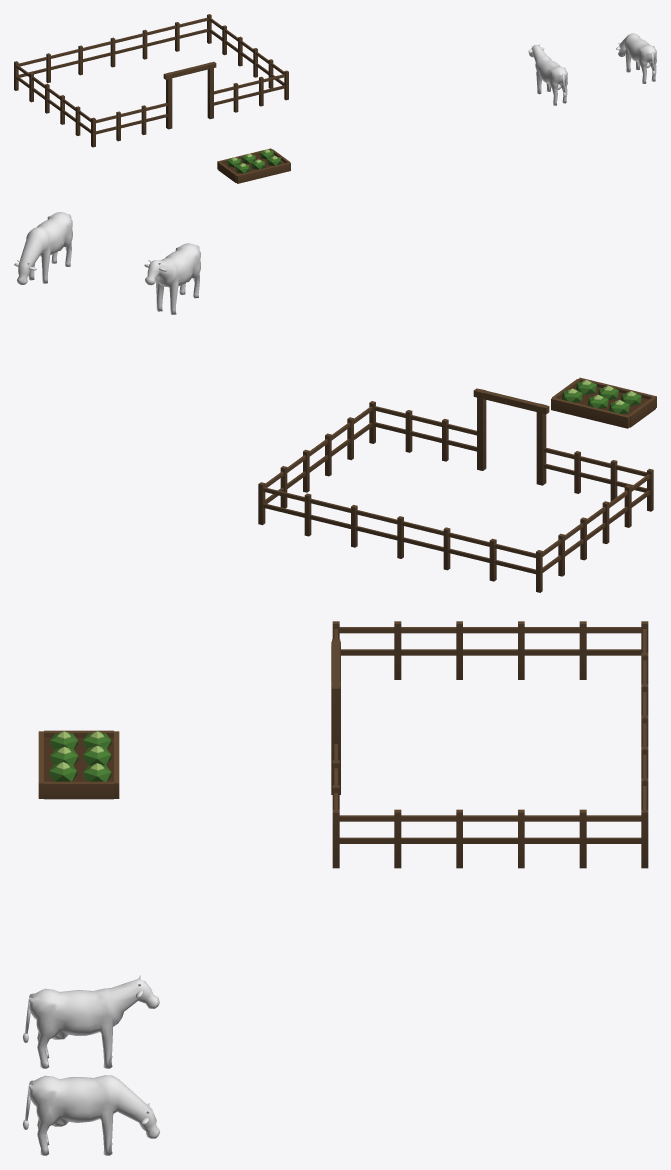
File: farm.glb
3 views of the same model, one above another, from view 1: azimuth 30°, elevation 25°; view 2: azimuth 150°, elevation 25°; view 3: azimuth 270°, elevation 25° (orthographic). The views are drawn at different scales.
Visible parts, largest first — view 1: PastureFence, FarmPlot, Cow_Stand, Cow_Graze; view 2: PastureFence, FarmPlot, Cow_Graze, Cow_Stand; view 3: PastureFence, Cow_Graze, Cow_Stand, FarmPlot.
Part boxes in pixels (x1,y1,x2,y2): PastureFence: [14, 14, 288, 147]; FarmPlot: [217, 148, 290, 183]; Cow_Stand: [528, 44, 567, 105]; Cow_Graze: [616, 33, 656, 83]; PastureFence: [258, 388, 653, 592]; FarmPlot: [551, 377, 656, 428]; Cow_Graze: [14, 212, 72, 284]; Cow_Stand: [144, 243, 200, 314]; PastureFence: [331, 621, 648, 868]; Cow_Graze: [22, 1075, 159, 1155]; Cow_Stand: [23, 975, 159, 1068]; FarmPlot: [38, 730, 119, 799].
Bounding box in the file's own units: 16.61 × 1.75 × 9.12.
